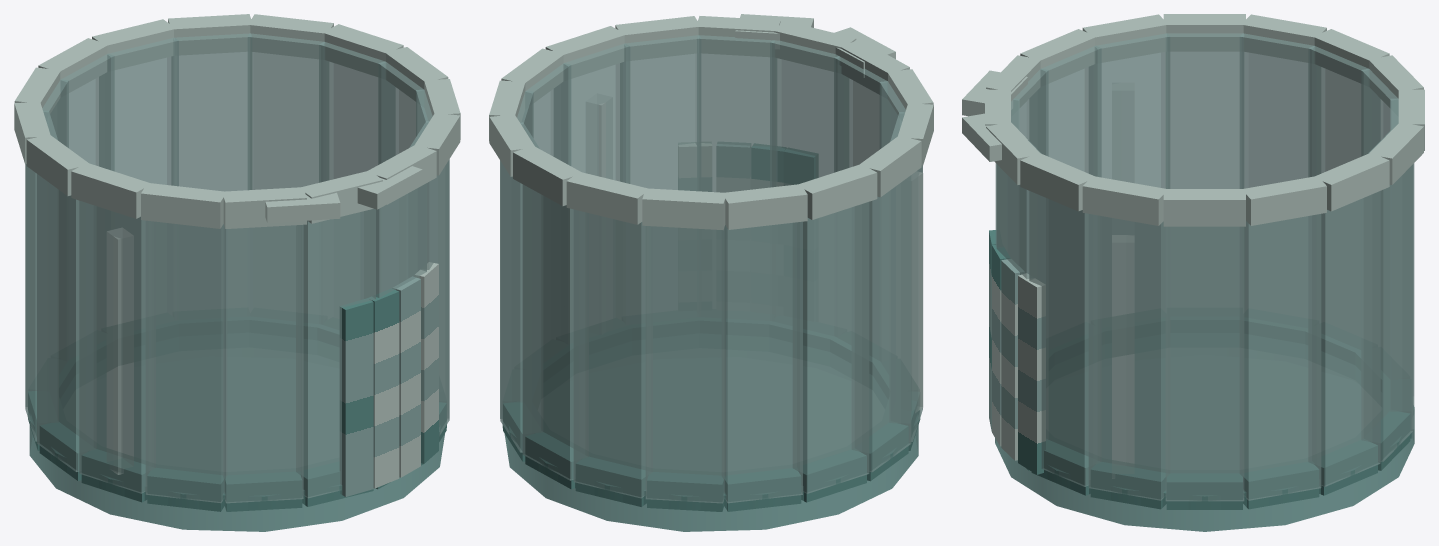
The model's file is CMU3DCMBeakerMedicalSmallCloud.glb.
3 renders of one model, left to right at view 1: azimuth 30°, elevation 25°; view 2: azimuth 150°, elevation 25°; view 3: azimuth 270°, elevation 25°, orthographic.
Parts seen in each view (by area): view 1: closed vessel floor, thin hollow vessel wall 10, thin hollow vessel wall 11, thin hollow vessel wall 09, thin hollow vessel wall 12, thin hollow vessel wall 08, thin hollow vessel wall 03, thin hollow vessel wall 02, thin hollow vessel wall 04, thin hollow vessel wall 01, original curved graduation column 16, subtle vertical glass edge 0 (+36 smaller); view 2: closed vessel floor, thin hollow vessel wall 05, thin hollow vessel wall 06, thin hollow vessel wall 04, thin hollow vessel wall 07, thin hollow vessel wall 03, thin hollow vessel wall 08, thin hollow vessel wall 13, thin hollow vessel wall 14, thin hollow vessel wall 12, thin hollow vessel wall 02, thin hollow vessel wall 15 (+41 smaller); view 3: closed vessel floor, thin hollow vessel wall 01, thin hollow vessel wall 15, thin hollow vessel wall 16, thin hollow vessel wall 02, thin hollow vessel wall 14, thin hollow vessel wall 08, thin hollow vessel wall 03, thin hollow vessel wall 09, thin hollow vessel wall 07, thin hollow vessel wall 10, thin hollow vessel wall 06 (+40 smaller).
Part boxes in pixels (x1=…): closed vessel floor: x1=29, y1=348, x2=444, y2=531; thin hollow vessel wall 10: x1=145, y1=220, x2=226, y2=503; thin hollow vessel wall 11: x1=223, y1=224, x2=303, y2=503; thin hollow vessel wall 09: x1=79, y1=200, x2=155, y2=493; thin hollow vessel wall 12: x1=296, y1=209, x2=375, y2=498; thin hollow vessel wall 08: x1=37, y1=174, x2=96, y2=471; thin hollow vessel wall 03: x1=173, y1=33, x2=251, y2=191; thin hollow vessel wall 02: x1=247, y1=33, x2=326, y2=189; thin hollow vessel wall 04: x1=105, y1=38, x2=178, y2=185; thin hollow vessel wall 01: x1=319, y1=42, x2=388, y2=182; original curved graduation column 16: x1=340, y1=298, x2=373, y2=496; subtle vertical glass edge 0: x1=107, y1=228, x2=133, y2=474; closed vessel floor: x1=504, y1=348, x2=918, y2=531; thin hollow vessel wall 05: x1=645, y1=225, x2=725, y2=503; thin hollow vessel wall 06: x1=722, y1=221, x2=802, y2=503; thin hollow vessel wall 04: x1=573, y1=209, x2=652, y2=498; thin hollow vessel wall 07: x1=793, y1=202, x2=869, y2=493; thin hollow vessel wall 03: x1=522, y1=184, x2=588, y2=480; thin hollow vessel wall 08: x1=852, y1=175, x2=911, y2=472; thin hollow vessel wall 13: x1=697, y1=35, x2=775, y2=192; thin hollow vessel wall 14: x1=623, y1=35, x2=701, y2=191; thin hollow vessel wall 12: x1=770, y1=40, x2=843, y2=187; thin hollow vessel wall 02: x1=500, y1=122, x2=542, y2=452; thin hollow vessel wall 15: x1=561, y1=44, x2=629, y2=183; closed vessel floor: x1=995, y1=348, x2=1414, y2=531; thin hollow vessel wall 01: x1=1240, y1=214, x2=1321, y2=500; thin hollow vessel wall 15: x1=1088, y1=214, x2=1169, y2=500; thin hollow vessel wall 16: x1=1165, y1=226, x2=1244, y2=501; thin hollow vessel wall 02: x1=1308, y1=191, x2=1380, y2=486; thin hollow vessel wall 14: x1=1029, y1=191, x2=1101, y2=486; thin hollow vessel wall 08: x1=1165, y1=33, x2=1243, y2=188; thin hollow vessel wall 03: x1=1361, y1=130, x2=1413, y2=461; thin hollow vessel wall 09: x1=1093, y1=33, x2=1169, y2=188; thin hollow vessel wall 07: x1=1240, y1=33, x2=1316, y2=188; thin hollow vessel wall 10: x1=1037, y1=46, x2=1101, y2=177; thin hollow vessel wall 06: x1=1308, y1=46, x2=1372, y2=176.
Size of the model in its own units: 0.4048 by 0.3415 by 0.4259.
Materials: 9 (4 with a texture image).
